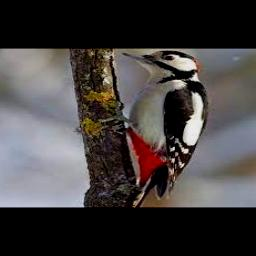Woodpecker: (105, 50, 209, 208)
